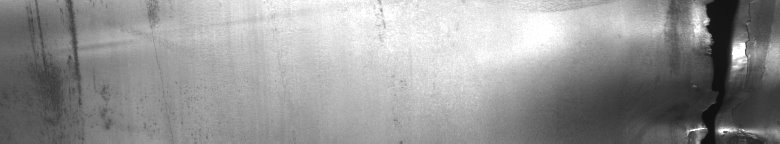ke: (686, 4, 762, 136)
